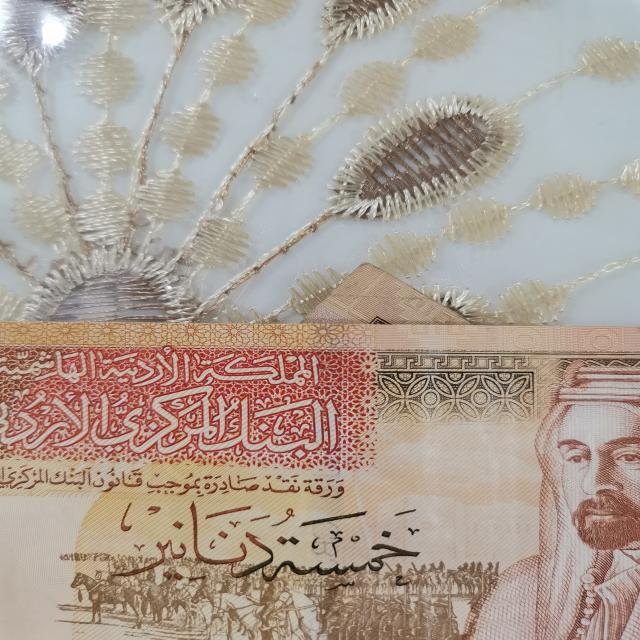5-dinar: (2, 321, 640, 640), (289, 259, 483, 325)
